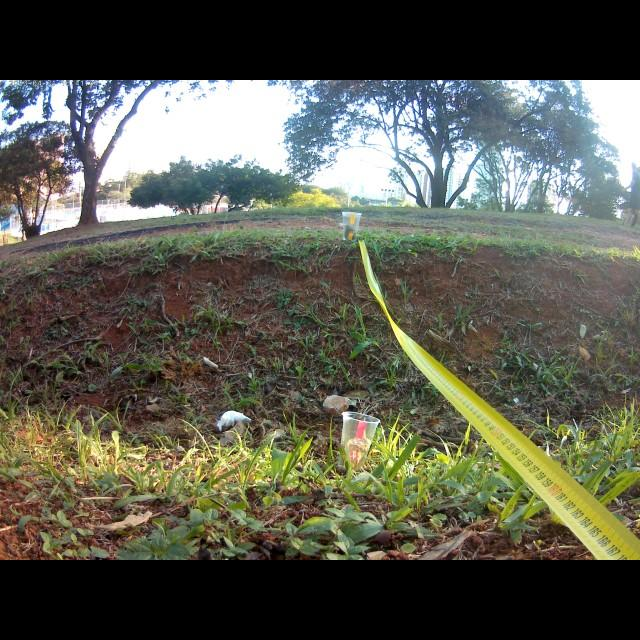ravina: (10, 249, 632, 452)
